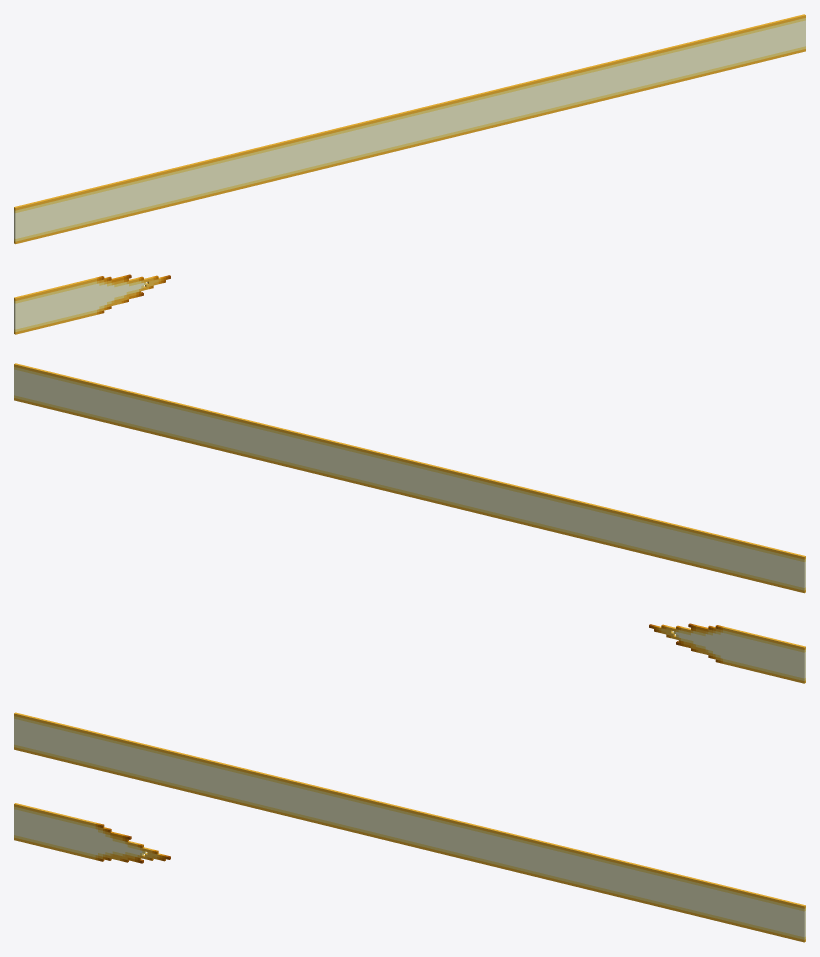
File: Fight_009_2_18_fx.obj
3 views of the same model, one above another, from view 1: azimuth 30°, elevation 25°; view 2: azimuth 150°, elevation 25°; view 3: azimuth 330°, elevation 25° (orthographic).
Size of the model in its own units: 32 by 4.9 by 0.1.
1 material, 1 textured.
